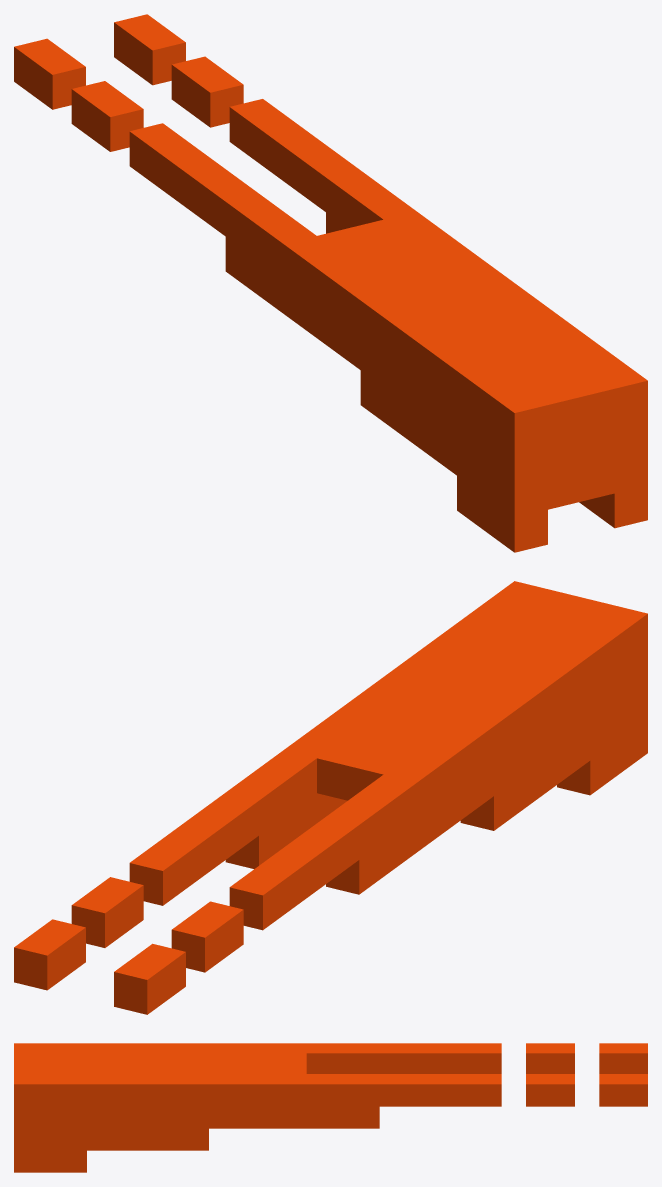
Rendered from Body-46-Transtellar_ThrusterFire.obj.
3 views of the same model, one above another, from view 1: azimuth 30°, elevation 25°; view 2: azimuth 150°, elevation 25°; view 3: azimuth 270°, elevation 25° (orthographic). The views are drawn at different scales.
Visible parts, largest first — view 1: Transtellar_ThrusterFire; view 2: Transtellar_ThrusterFire; view 3: Transtellar_ThrusterFire.
Part boxes in pixels (x1,y1,x2,y2): Transtellar_ThrusterFire: (14, 14, 647, 552); Transtellar_ThrusterFire: (14, 581, 647, 1014); Transtellar_ThrusterFire: (14, 1043, 647, 1172).
Size of the model in its own units: 0.4 by 0.4 by 2.6.
Materials: 1 (1 with a texture image).
